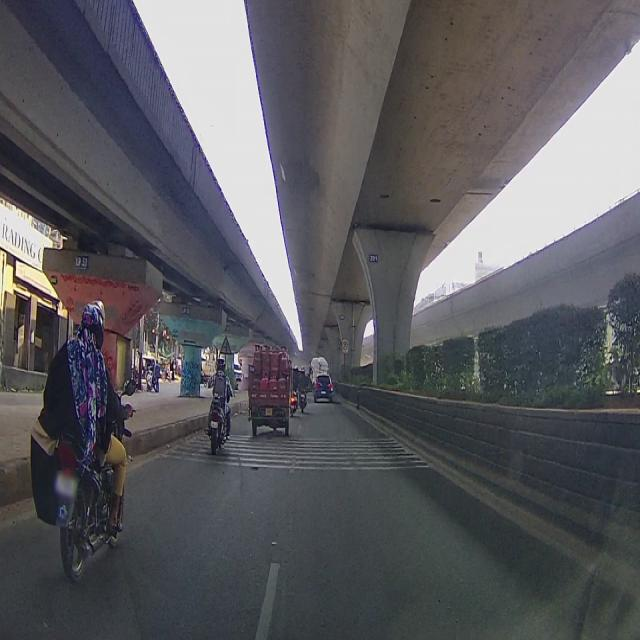side-road-left: (220, 334, 232, 358)
